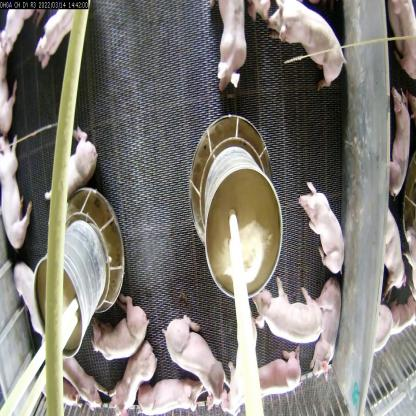Pig: (262, 0, 344, 92), (162, 316, 228, 403), (45, 128, 107, 213), (297, 179, 345, 280), (254, 278, 322, 349), (0, 129, 36, 255), (213, 0, 257, 92), (302, 276, 340, 378), (92, 293, 149, 361), (111, 343, 154, 416), (59, 346, 103, 415), (244, 350, 305, 398), (135, 372, 203, 415), (12, 264, 40, 343)
